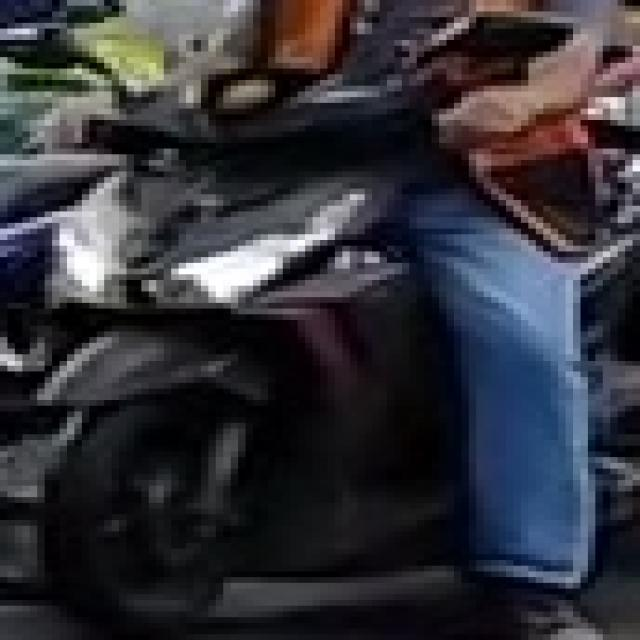door: (0, 0, 632, 634)
tyre: (37, 394, 246, 629)
